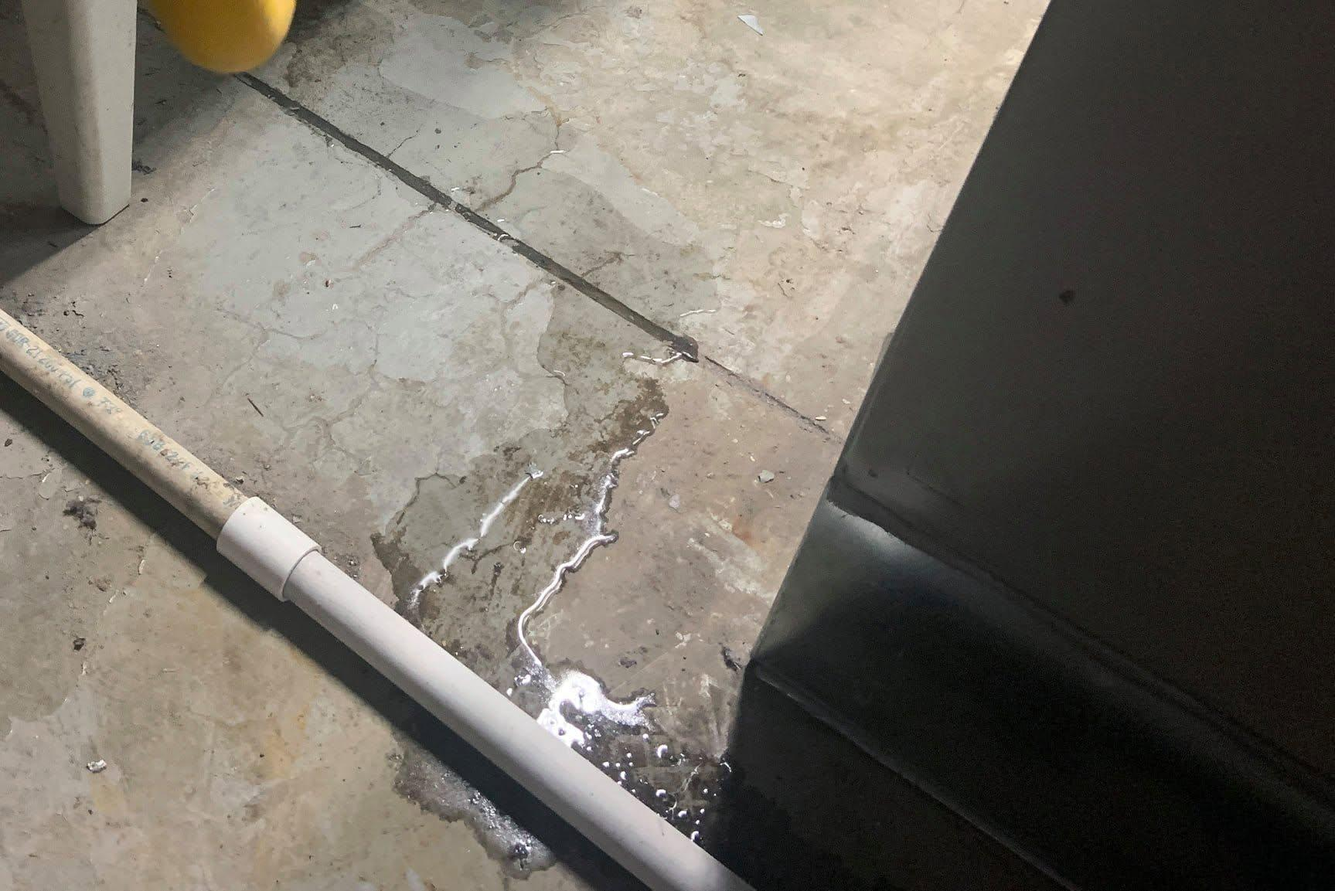water accumulation: (260, 0, 894, 891)
